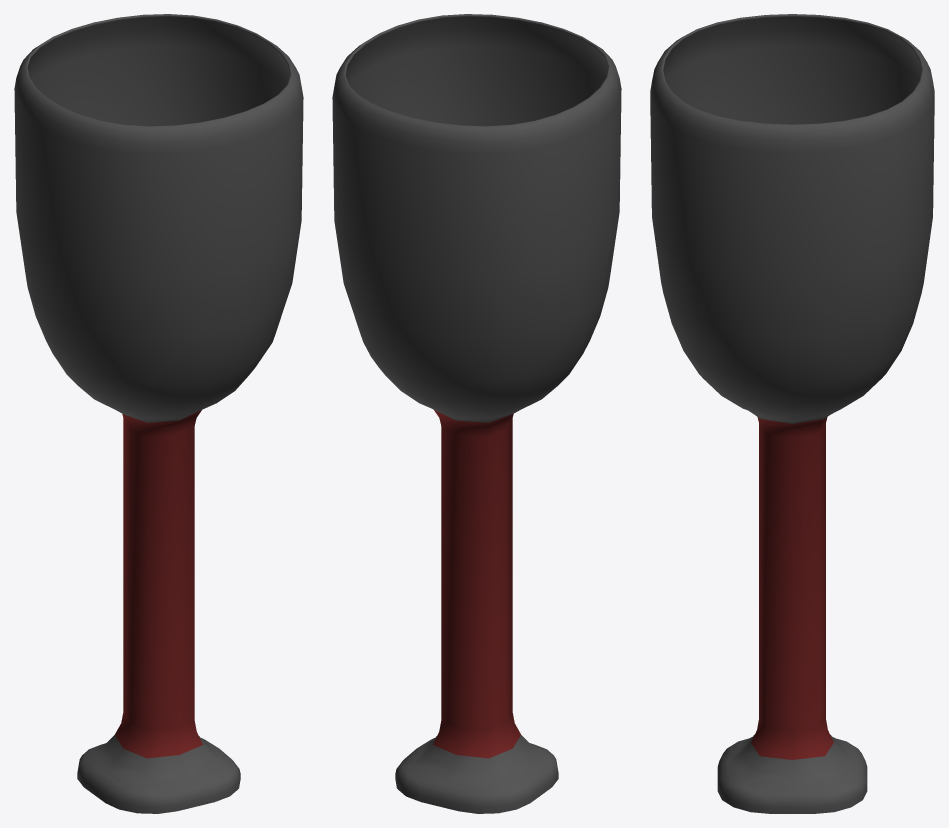
Rendered from Cup.fbx.
3 views of the same model, side by side, from view 1: azimuth 30°, elevation 25°; view 2: azimuth 150°, elevation 25°; view 3: azimuth 270°, elevation 25° (orthographic).
Visible parts, largest first — view 1: Cup; view 2: Cup; view 3: Cup.
Boxes of the visible parts, box(x1,y1,x2,y2) form: Cup: box(14, 14, 303, 813); Cup: box(332, 14, 621, 813); Cup: box(650, 14, 934, 813).
Bounding box in the file's own units: 94.65 × 94.65 × 262.
